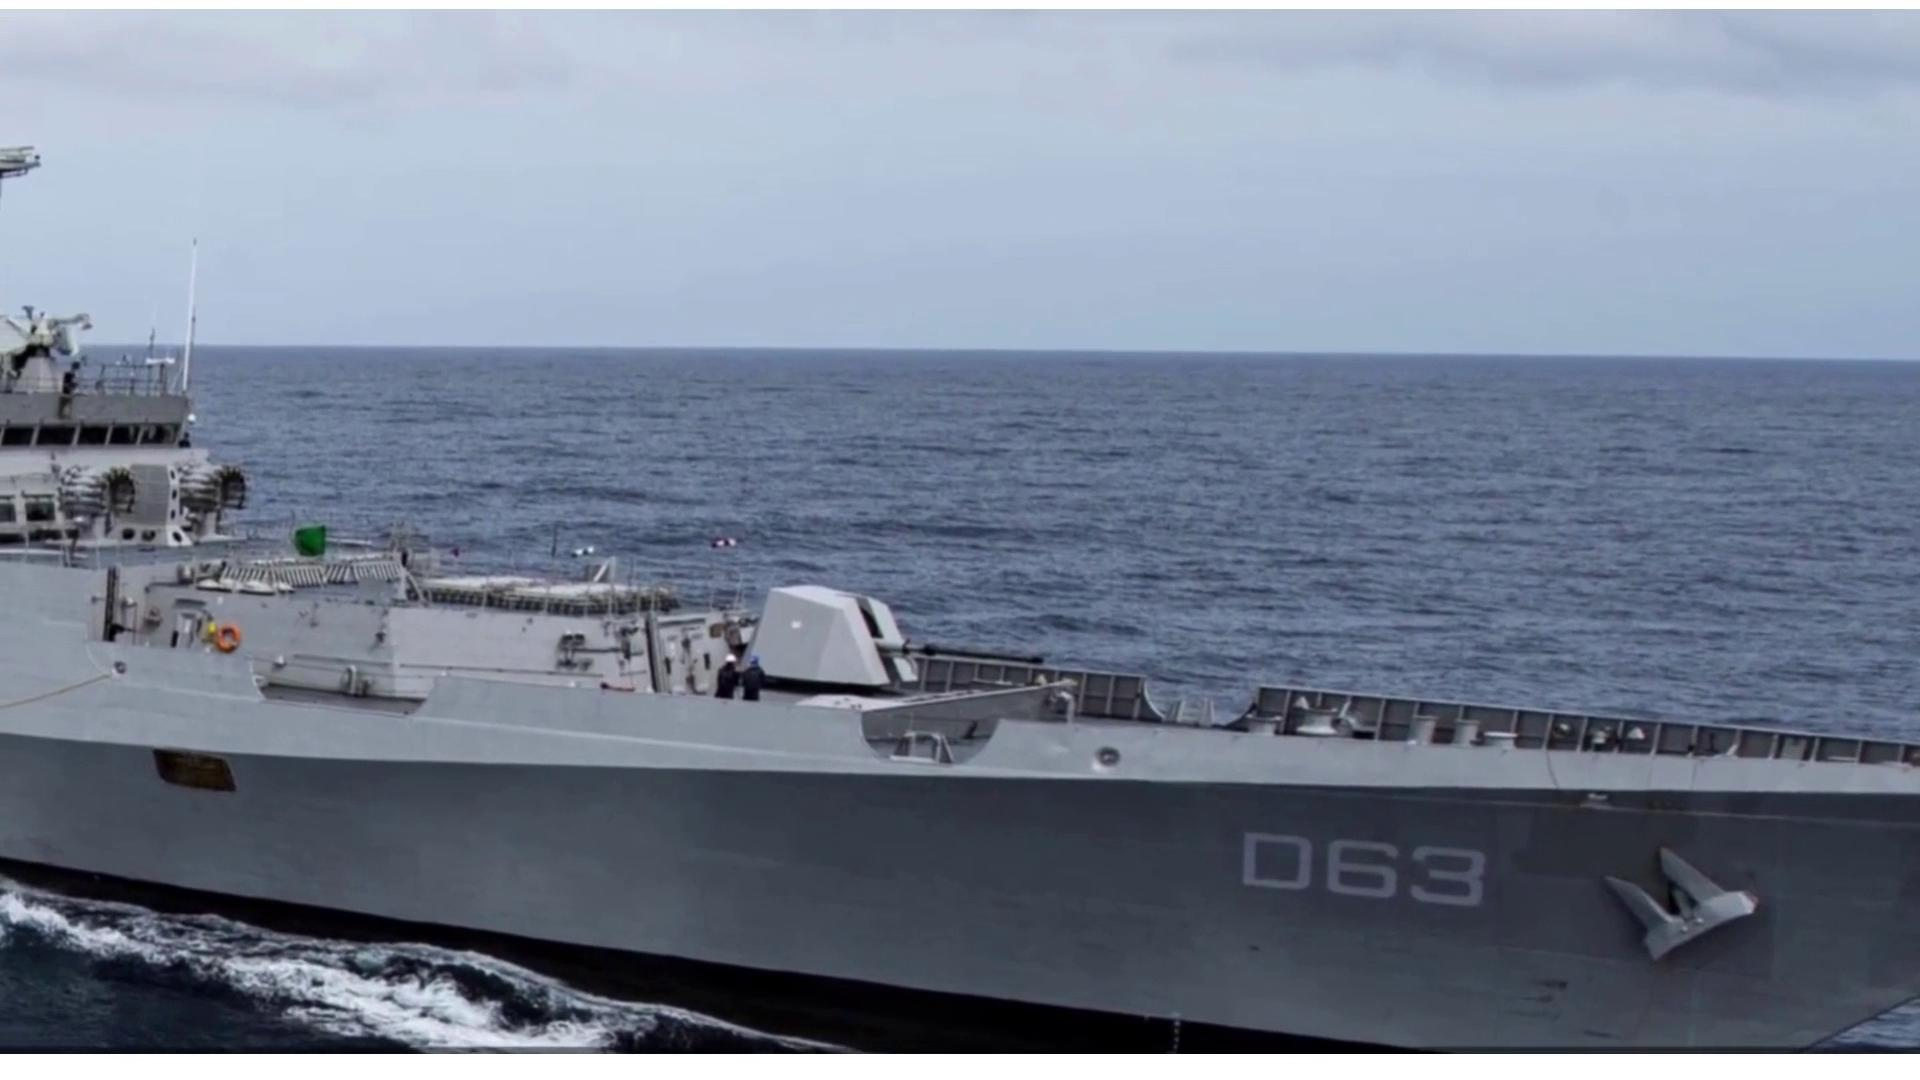OCR: (1241, 819, 1498, 920)
